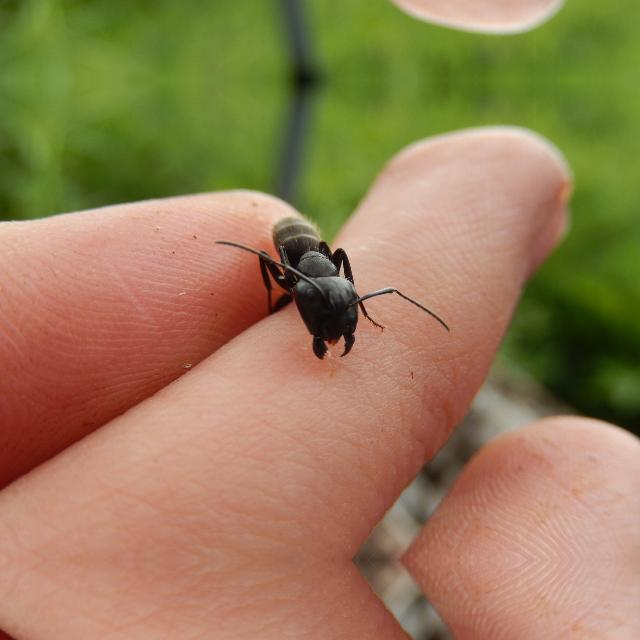Camponotus: (231, 202, 414, 362)
